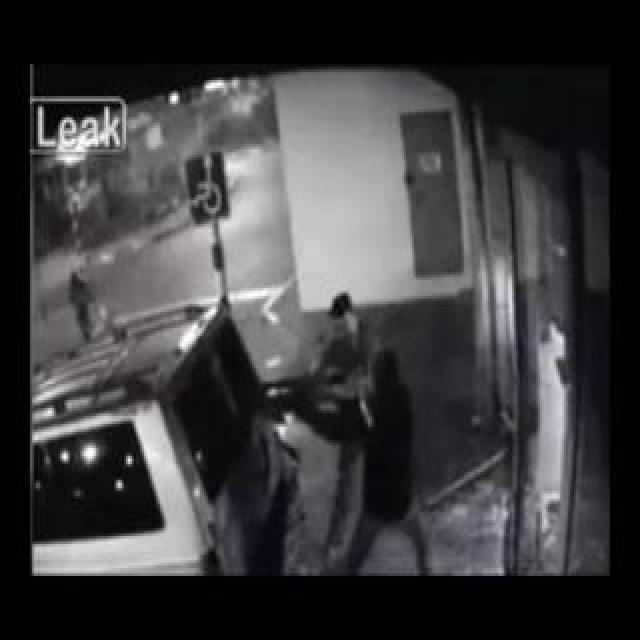thief: (307, 261, 425, 471)
